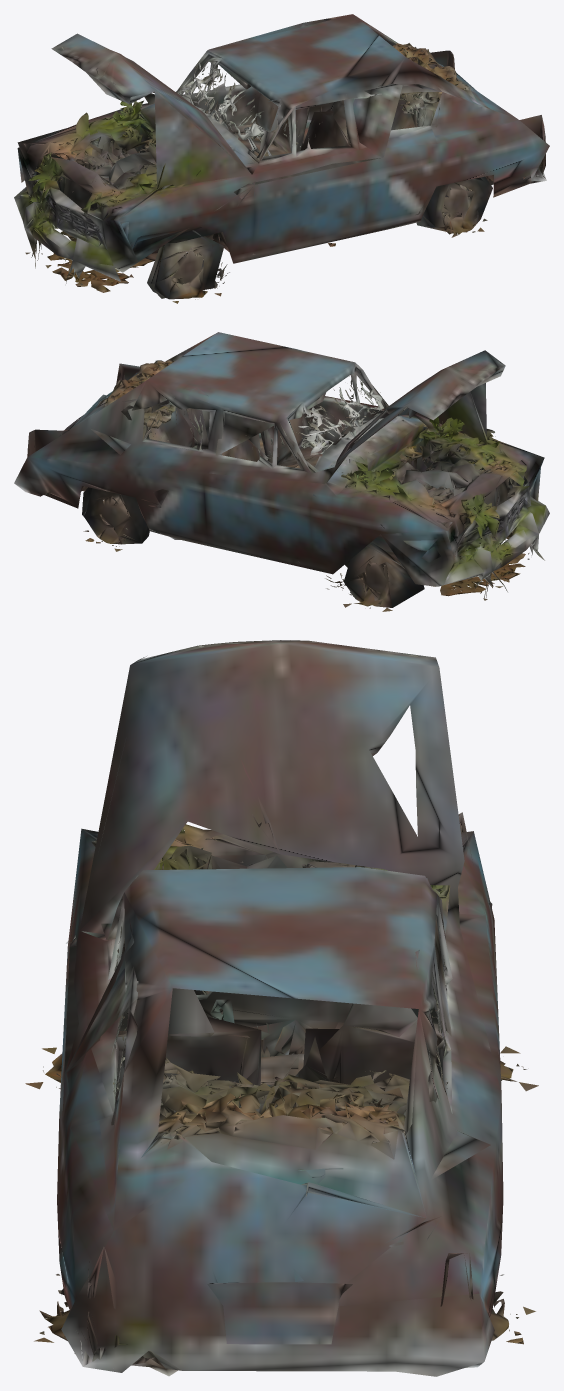
The model's file is car_vintage.glb.
3 renders of one model, top to bottom at view 1: azimuth 30°, elevation 25°; view 2: azimuth 150°, elevation 25°; view 3: azimuth 270°, elevation 25°, orthographic. The views are drawn at different scales.
Parts seen in each view (by area): view 1: frame; view 2: frame; view 3: frame.
Boxes of the visible parts, left/top/right/bottom form: frame: left=14, top=14, right=549, bottom=303; frame: left=14, top=332, right=549, bottom=611; frame: left=25, top=640, right=538, bottom=1376.
Bounding box in the file's own units: 4.43 × 1.89 × 2.16.
1 material, 1 textured.
